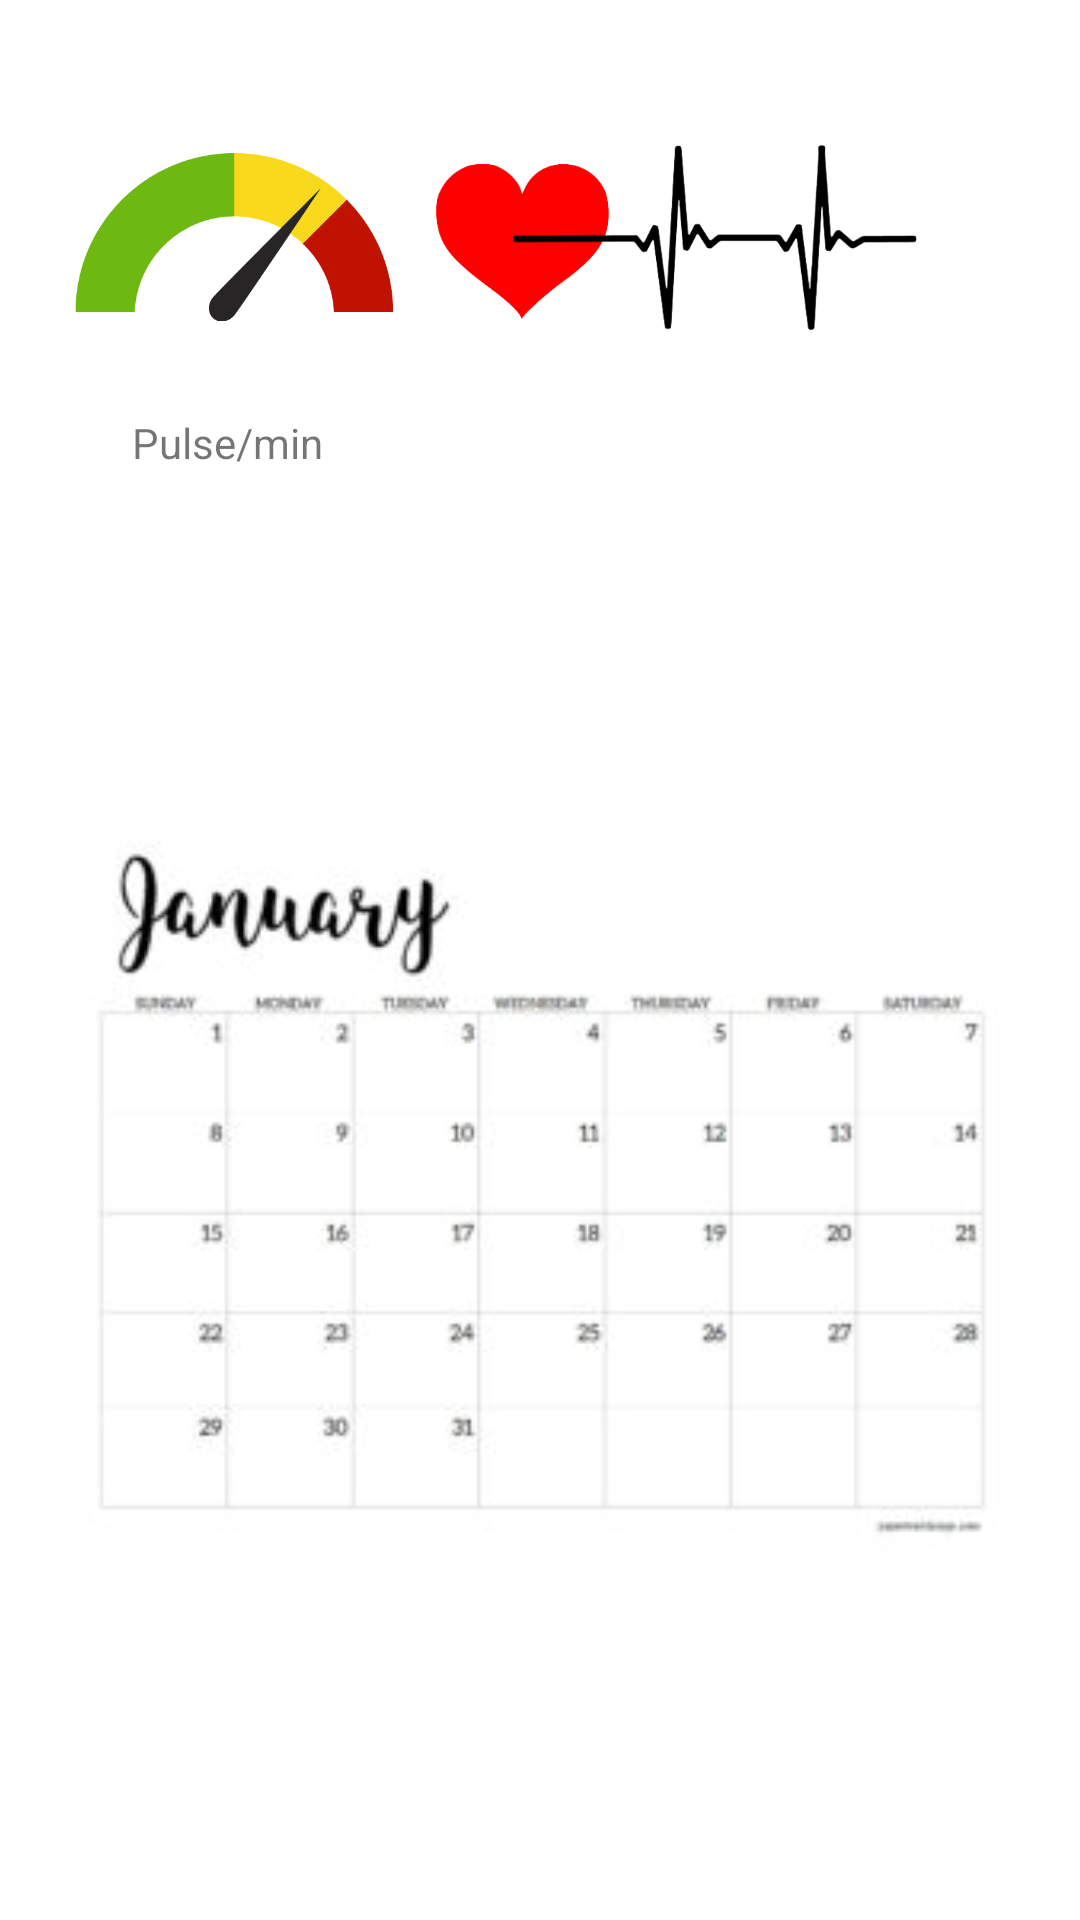

Screen size 1080 × 1920. Icon name, then its center in pixels as (x=x, y=y):
guage: (x=234, y=237)
